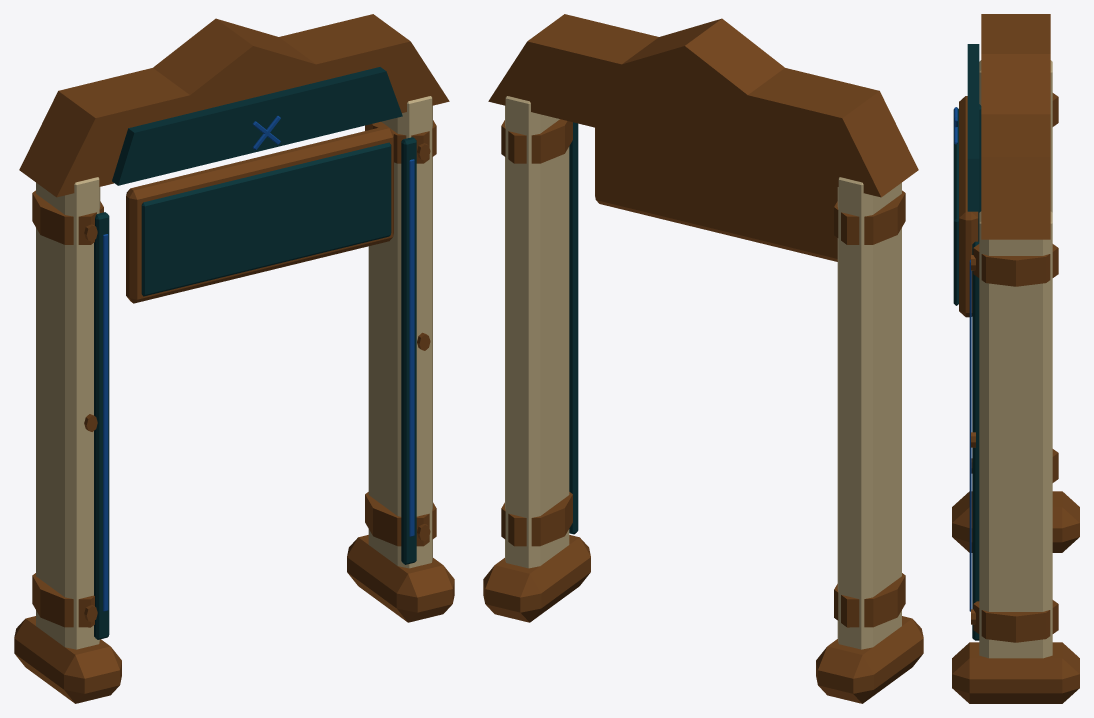
Rendered from gate-multiply.glb.
The picture shows the model from 3 angles, left to right: view 1: azimuth 30°, elevation 25°; view 2: azimuth 150°, elevation 25°; view 3: azimuth 270°, elevation 25°; orthographic projection. The views are drawn at different scales.
Parts seen in each view (by area): view 1: gate-multiply; view 2: gate-multiply; view 3: gate-multiply.
Boxes of the visible parts, x1,y1,x2,y2 form: gate-multiply: (14,14,454,703); gate-multiply: (483,14,923,703); gate-multiply: (952,14,1079,703).
Bounding box in the file's own units: 2.18 × 3.23 × 0.66.
Materials: 1 (1 with a texture image).
